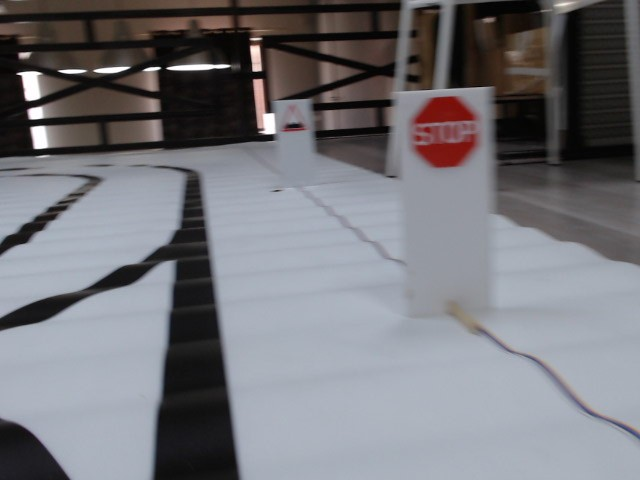Nerov: (280, 104, 309, 134)
Stop: (412, 96, 480, 167)
